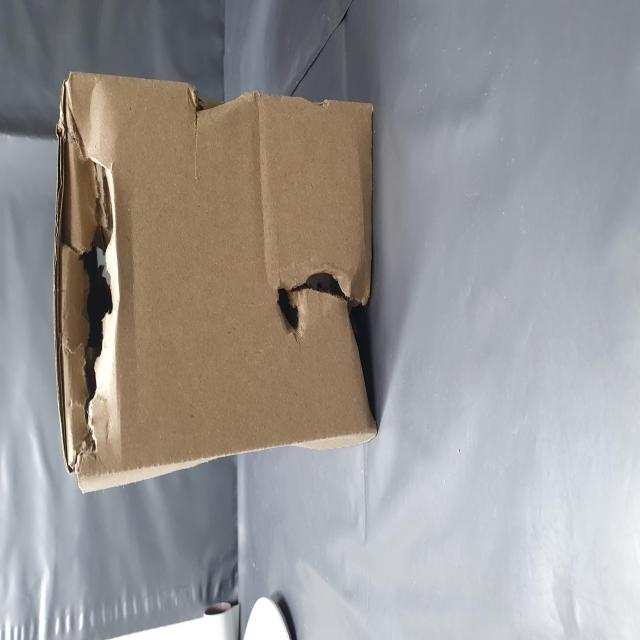damaged: (92, 107, 312, 227), (161, 488, 224, 640)
